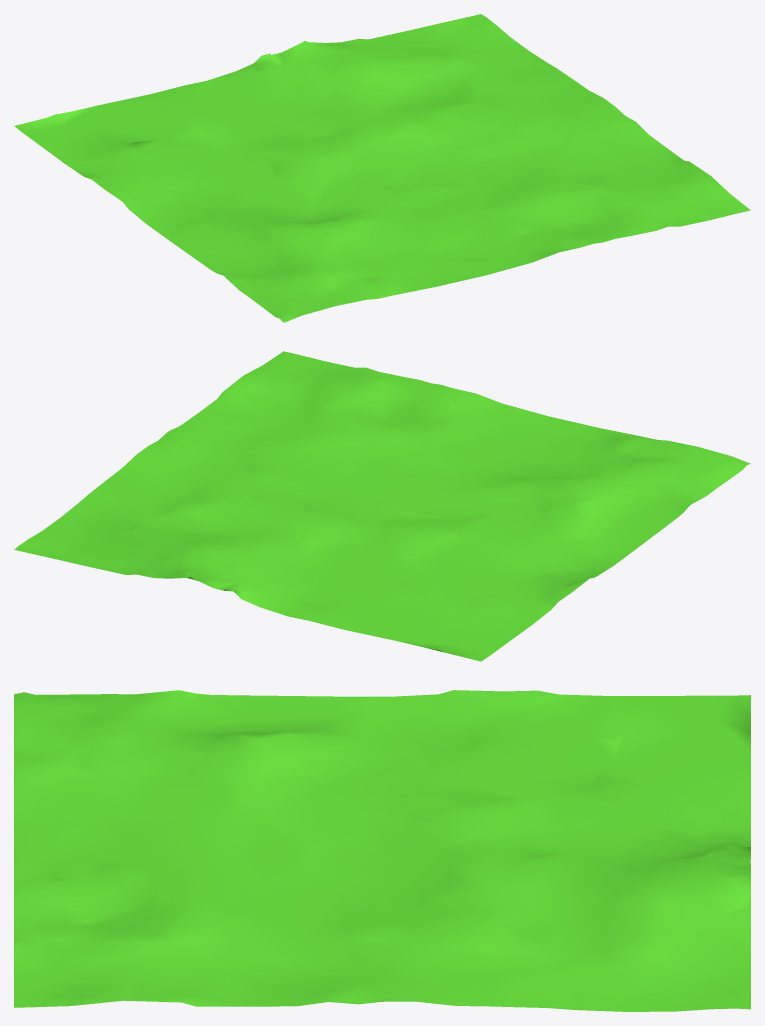
File: neighborhood.glb
3 views of the same model, one above another, from view 1: azimuth 30°, elevation 25°; view 2: azimuth 150°, elevation 25°; view 3: azimuth 270°, elevation 25° (orthographic). The views are drawn at different scales.
Parts seen in each view (by area): view 1: Landscape; view 2: Landscape; view 3: Landscape.
Part boxes in pixels (x1=…): Landscape: x1=14, y1=14, x2=750, y2=322; Landscape: x1=14, y1=351, x2=750, y2=661; Landscape: x1=14, y1=690, x2=750, y2=1011.
Size of the model in its own units: 20.01 by 0.7315 by 20.01.
